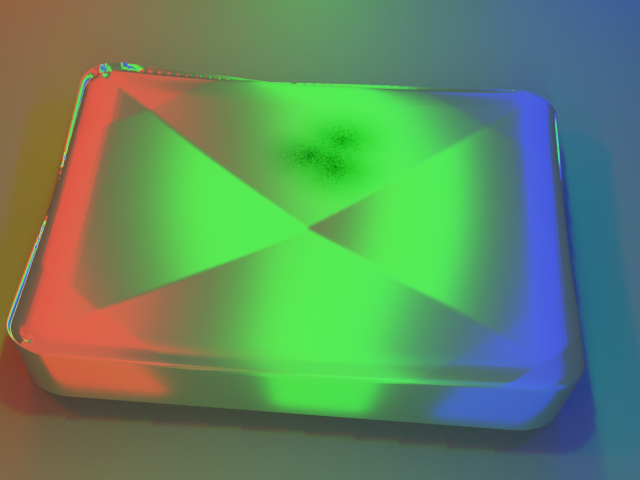smash: (0, 0, 639, 479)
stain: (223, 74, 444, 207)
